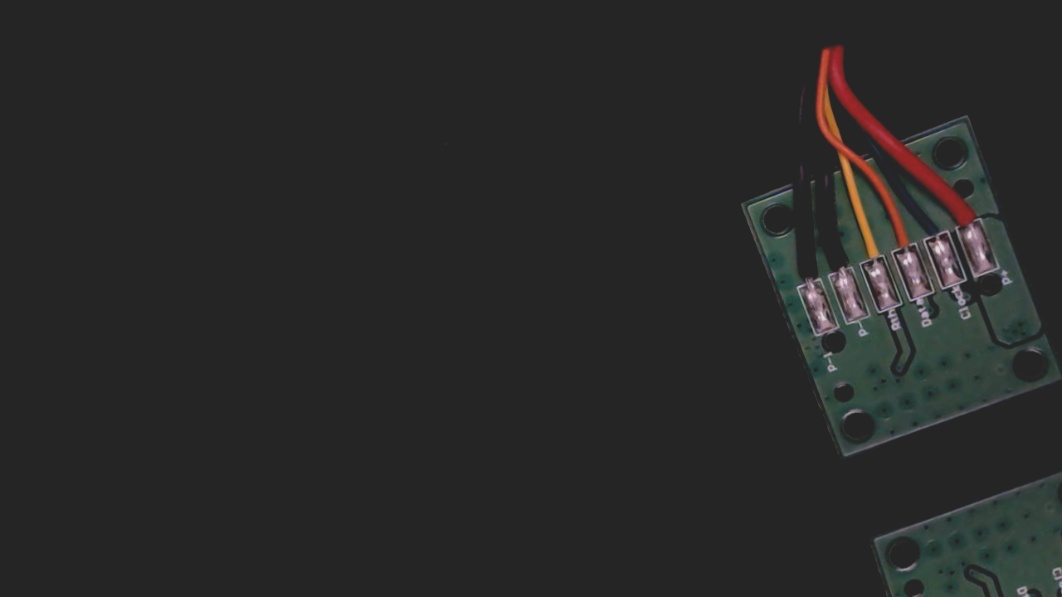Black: (813, 223, 860, 289)
Black1: (781, 240, 826, 302)
Green: (909, 191, 956, 255)
Orange: (876, 201, 921, 266)
Red: (939, 174, 986, 238)
Yellow: (844, 212, 892, 280)
